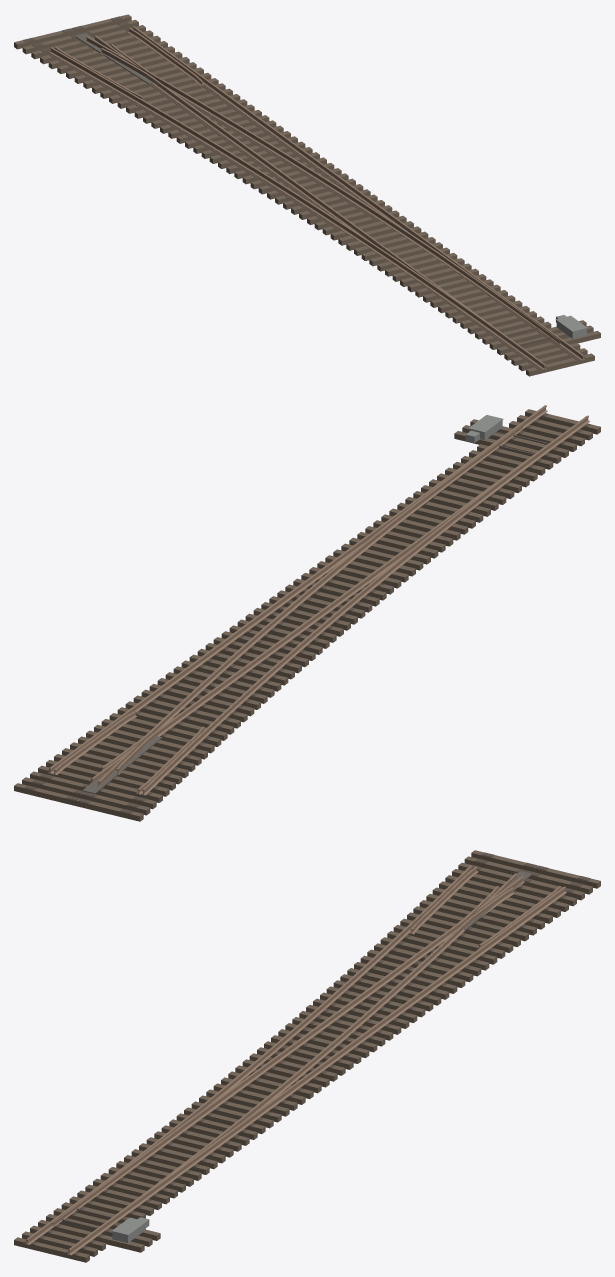
Rendered from turnout_10_l.glb.
3 views of the same model, one above another, from view 1: azimuth 30°, elevation 25°; view 2: azimuth 150°, elevation 25°; view 3: azimuth 330°, elevation 25° (orthographic). The views are drawn at different scales.
Visible parts, largest first — view 1: Timbers, Closures, StockCurved, StockStraight, Plates, BladeCurved, Guards, Machine; view 2: Timbers, Closures, StockCurved, StockStraight, Plates, Guards, BladeCurved, Machine; view 3: Timbers, Closures, StockStraight, Plates, StockCurved, BladeStraight, Guards, Machine.
Boxes of the visible parts, <box> form: Timbers: <box>14,14,600,376</box>; Closures: <box>100,44,438,263</box>; StockCurved: <box>50,47,546,369</box>; StockStraight: <box>132,26,584,360</box>; Plates: <box>23,16,585,369</box>; BladeCurved: <box>436,252,560,343</box>; Guards: <box>54,27,203,99</box>; Machine: <box>555,315,587,338</box>; Timbers: <box>14,409,600,821</box>; Closures: <box>101,520,433,774</box>; StockCurved: <box>141,415,589,795</box>; StockStraight: <box>48,405,547,774</box>; Plates: <box>24,413,590,813</box>; Guards: <box>52,711,204,794</box>; BladeCurved: <box>393,424,523,525</box>; Machine: <box>465,415,503,442</box>; Timbers: <box>14,850,600,1262</box>; Closures: <box>182,886,514,1136</box>; StockStraight: <box>67,886,566,1255</box>; Plates: <box>24,852,590,1254</box>; StockCurved: <box>25,865,472,1245</box>; BladeStraight: <box>52,1125,184,1226</box>; Guards: <box>409,866,561,949</box>; Machine: <box>111,1217,149,1242</box>.
Bounding box in the file's own units: 5.62 × 0.4678 × 32.04.
